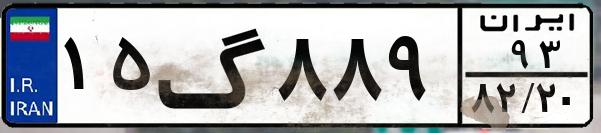0: (560, 70, 590, 125)
1: (57, 26, 110, 100)
2: (495, 70, 520, 125), (535, 70, 560, 125)
3: (537, 27, 568, 80)
5: (110, 28, 156, 98)
8: (270, 28, 330, 110), (330, 28, 385, 110), (470, 70, 495, 125)
9: (385, 28, 445, 110), (508, 27, 537, 80)
گ: (156, 12, 270, 120)
